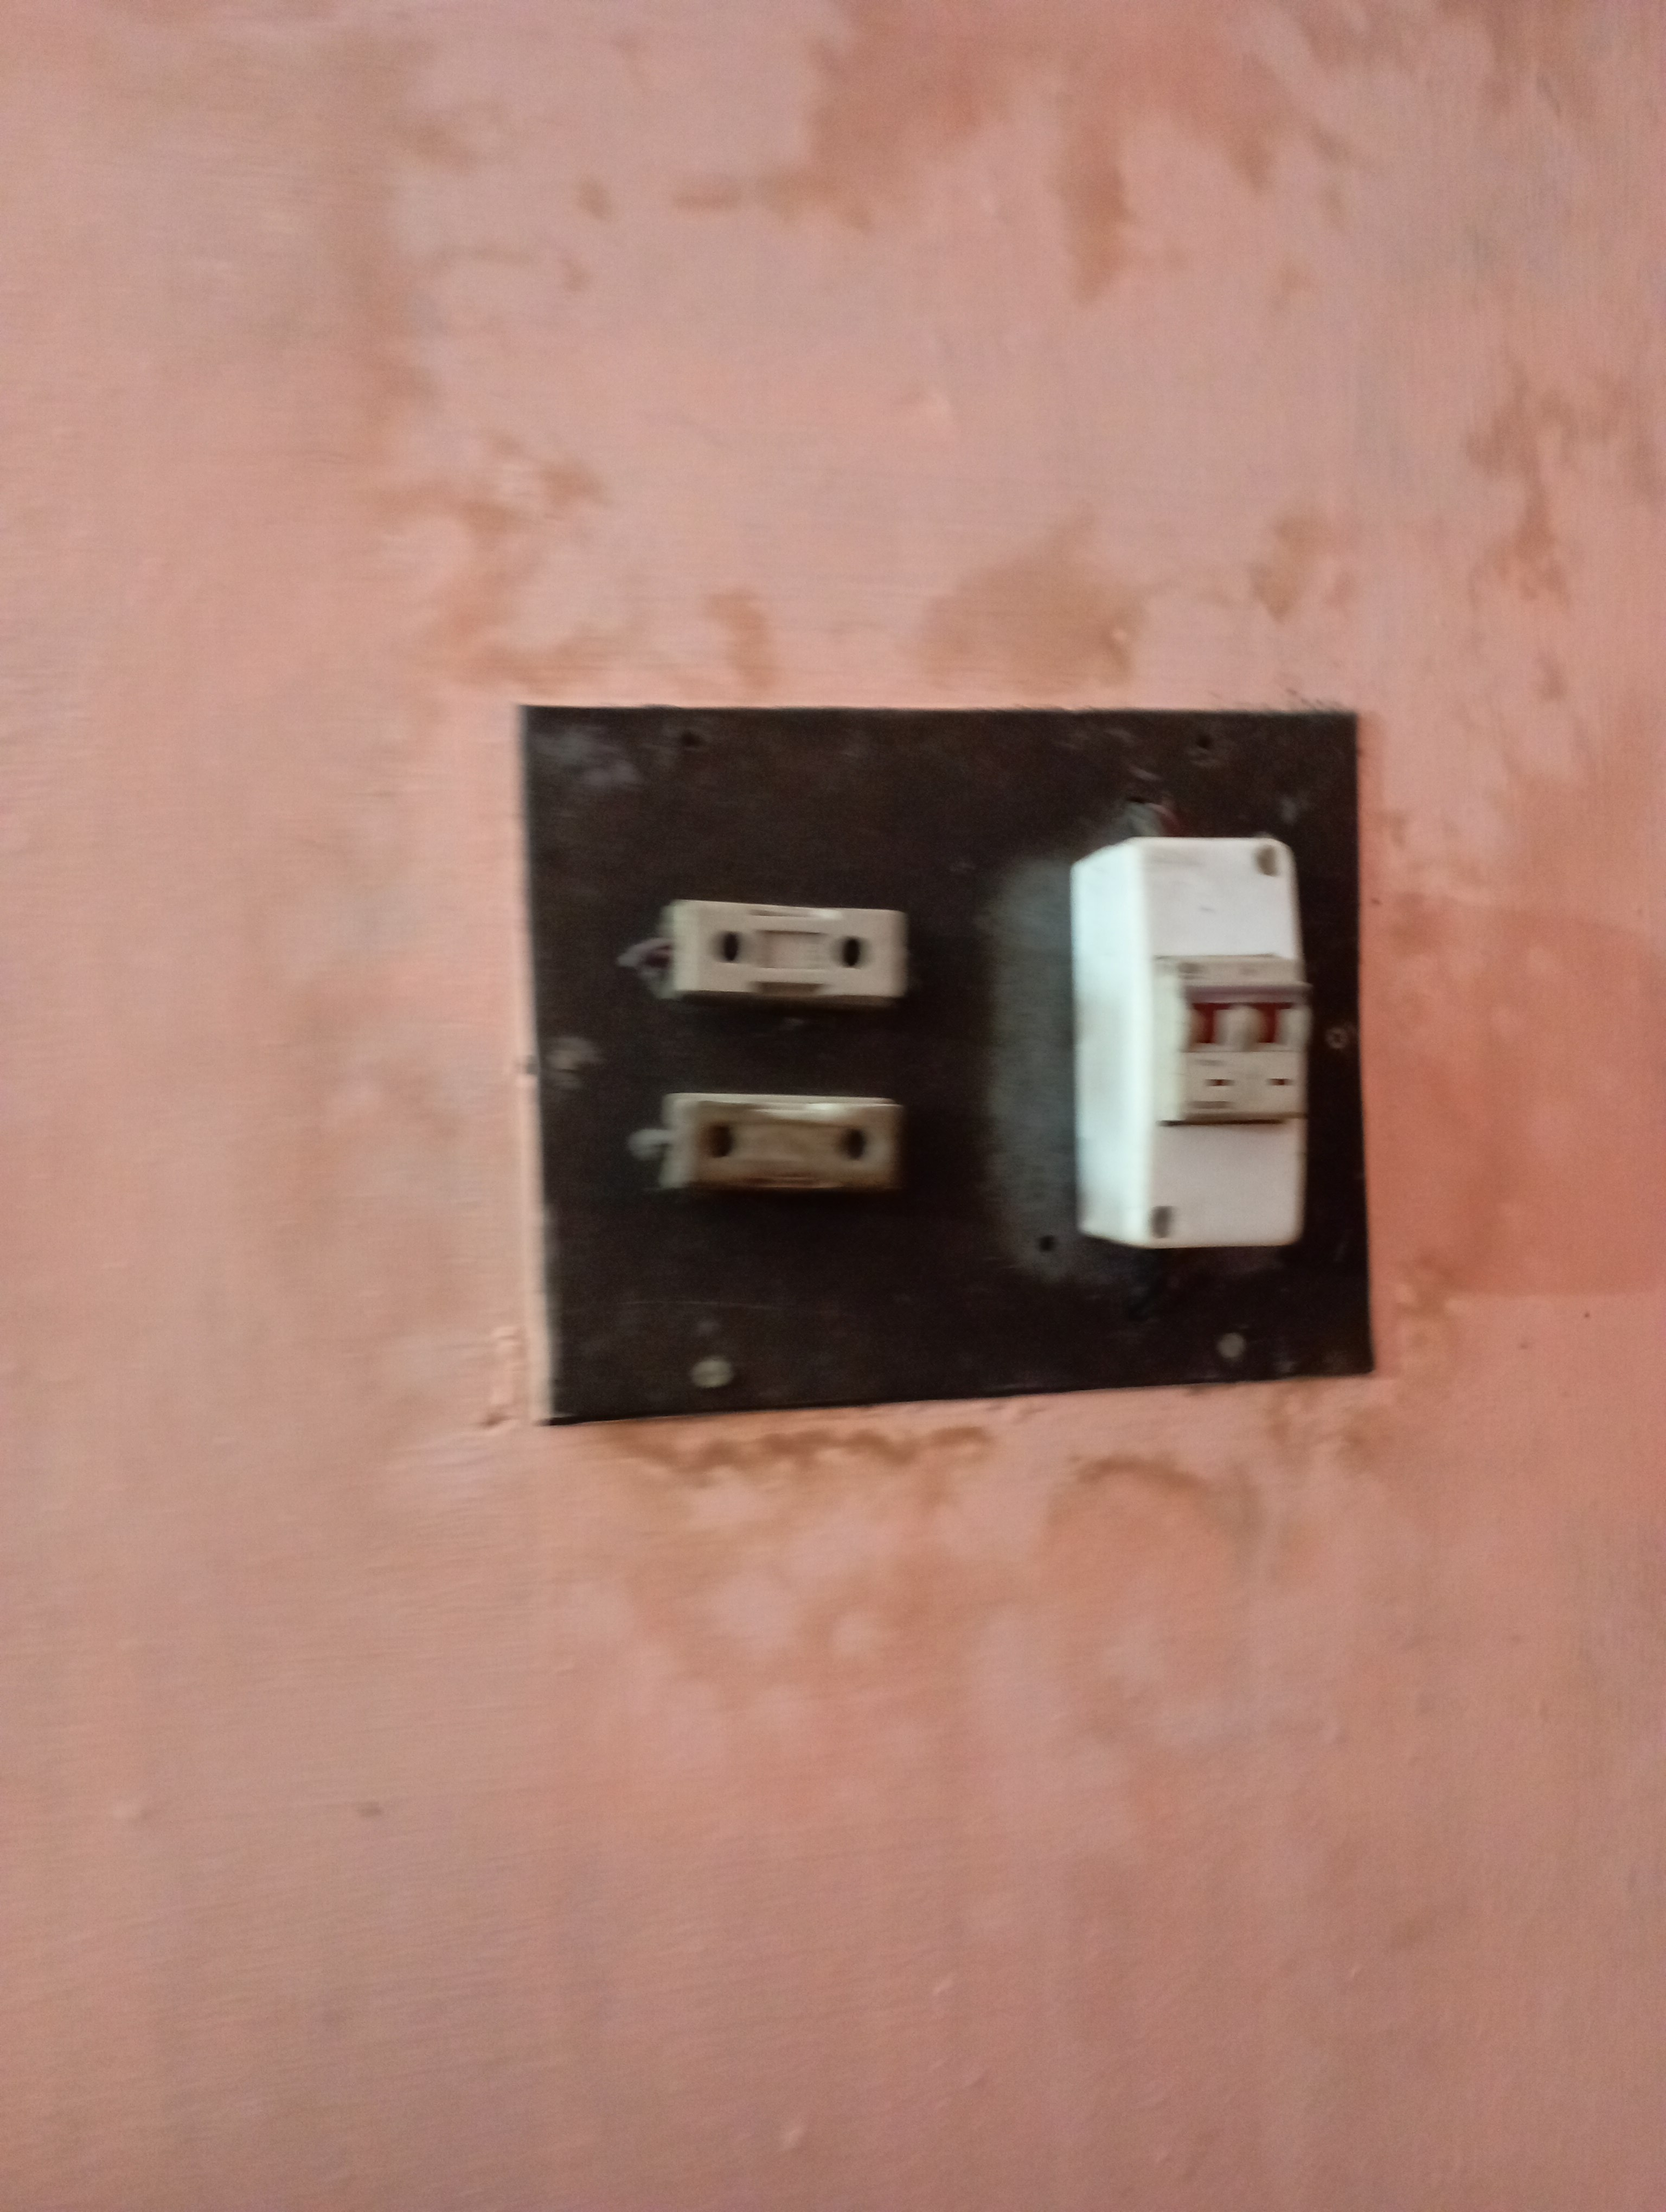ciruit_breaker: (1059, 838, 1335, 1261)
fuse: (626, 881, 926, 1023), (644, 1079, 908, 1203)
